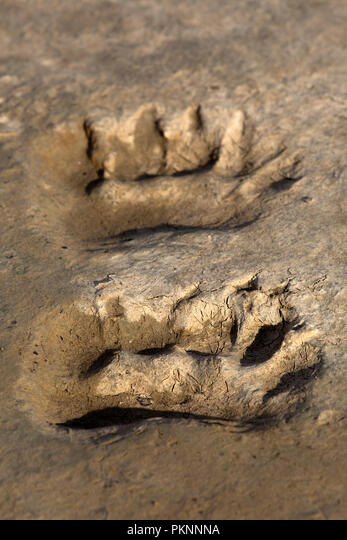bear: (29, 282, 324, 448), (37, 106, 315, 256)
